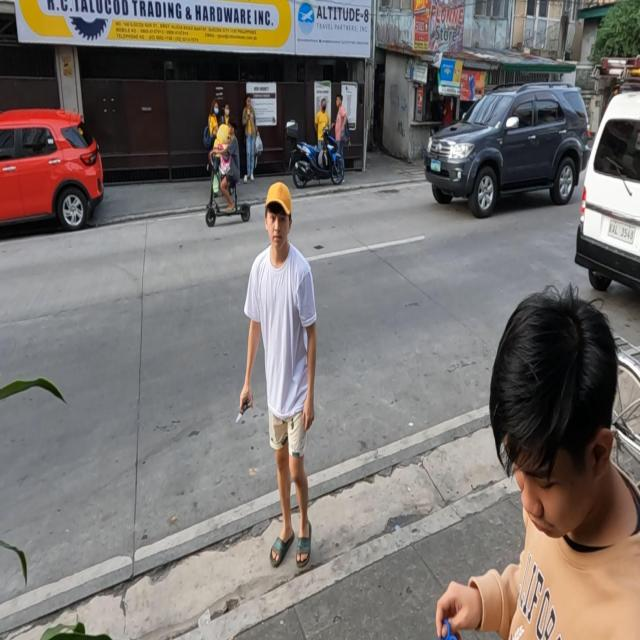scissor: (235, 398, 252, 423)
